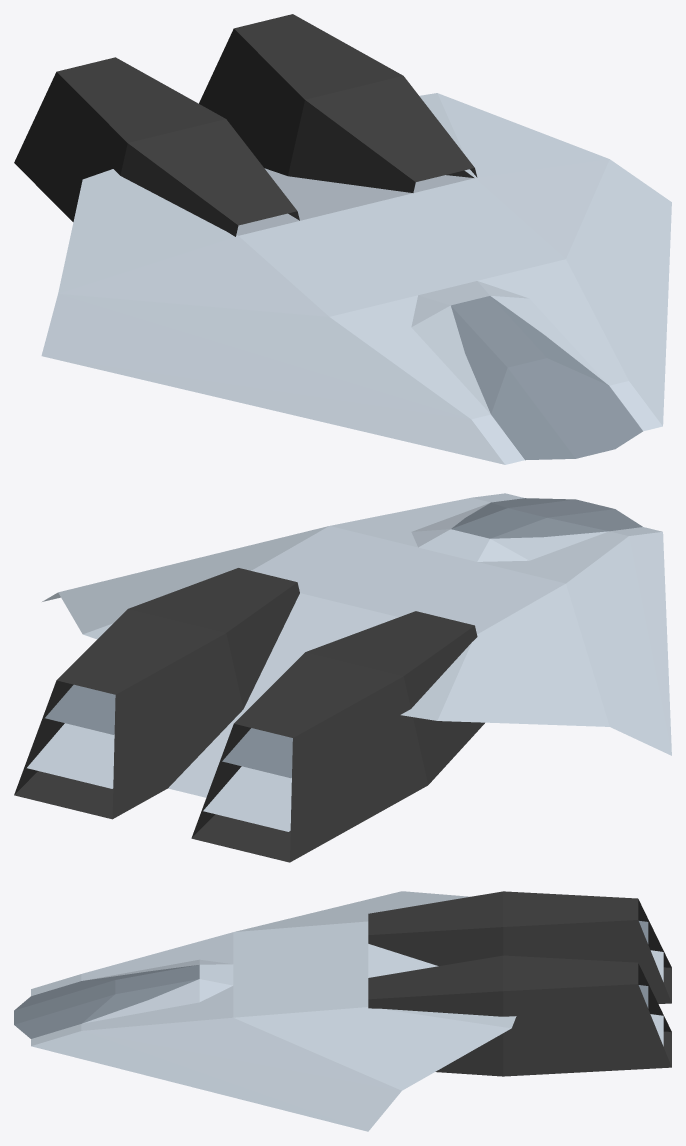
Rendered from DOGA_Model1.FBX.
3 renders of one model, top to bottom at view 1: azimuth 30°, elevation 25°; view 2: azimuth 150°, elevation 25°; view 3: azimuth 270°, elevation 25°, orthographic. The views are drawn at different scales.
Parts seen in each view (by area): view 1: VIFS002, VIFS003, VIFS001; view 2: VIFS002, VIFS003, VIFS001; view 3: VIFS002, VIFS003, VIFS001.
Boxes of the visible parts, bbox=[...] form: VIFS002: bbox=[41, 93, 671, 464]; VIFS003: bbox=[14, 14, 477, 236]; VIFS001: bbox=[451, 296, 642, 460]; VIFS002: bbox=[27, 493, 671, 831]; VIFS003: bbox=[14, 568, 484, 862]; VIFS001: bbox=[45, 498, 642, 778]; VIFS002: bbox=[31, 891, 663, 1131]; VIFS003: bbox=[368, 891, 671, 1076]; VIFS001: bbox=[14, 921, 648, 1038].
Size of the model in its own units: 1.52 by 0.2381 by 1.86.
